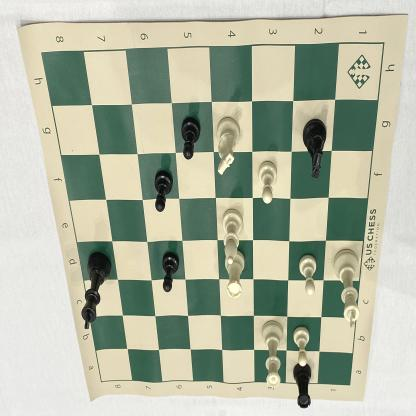black-king: (77, 248, 114, 334)
black-knight: (300, 115, 328, 180)
black-pawn: (152, 166, 175, 218), (179, 114, 202, 164), (160, 246, 181, 294)
black-rook: (292, 361, 316, 414)
white-bishop: (219, 208, 244, 266)
white-king: (331, 246, 363, 331)
white-knight: (214, 113, 242, 178)
white-pawn: (256, 158, 281, 208), (297, 252, 320, 300), (289, 324, 313, 369)
white-queen: (258, 316, 284, 391)
white-rook: (222, 247, 247, 301)
